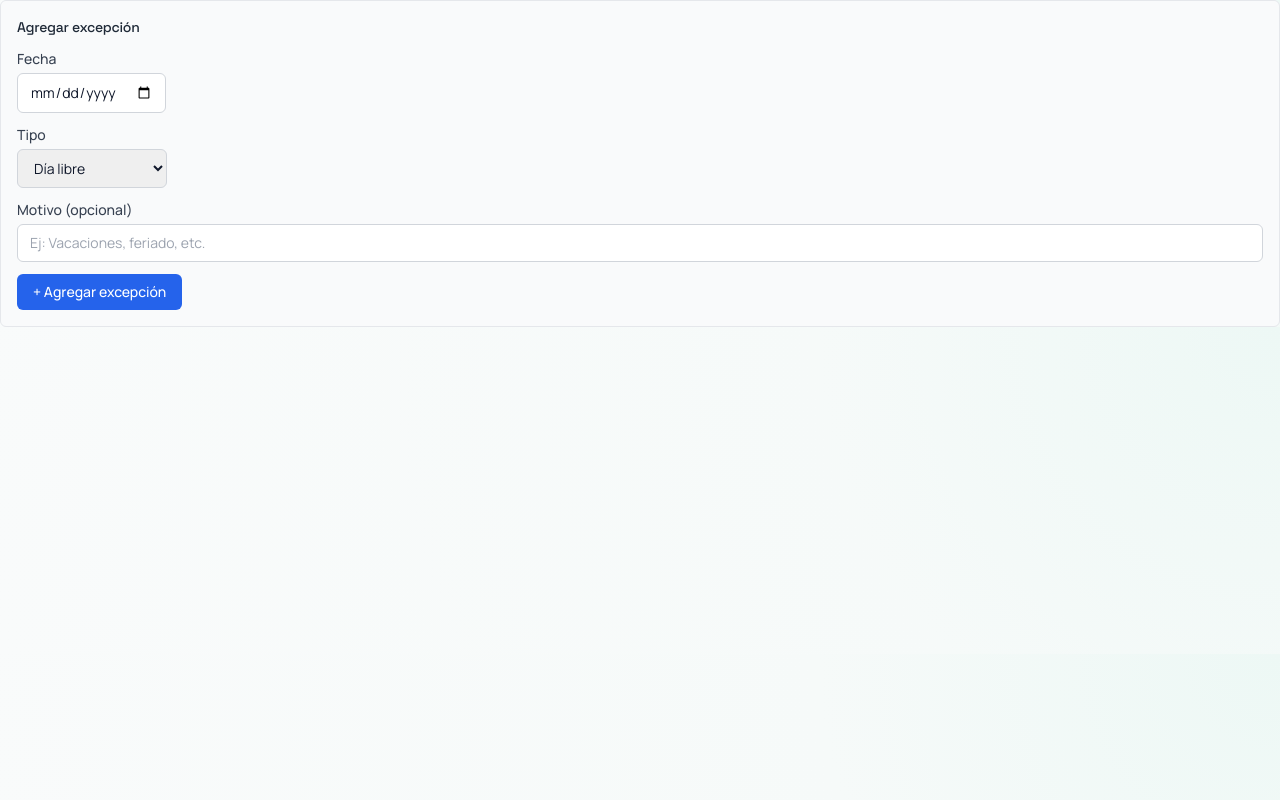
ExceptionDateForm › shows validation error when submitting without date
The image size is (1280, 800).
Click the button "+ Agregar excepción": (100, 292) x1=17 y1=274 x2=182 y2=310
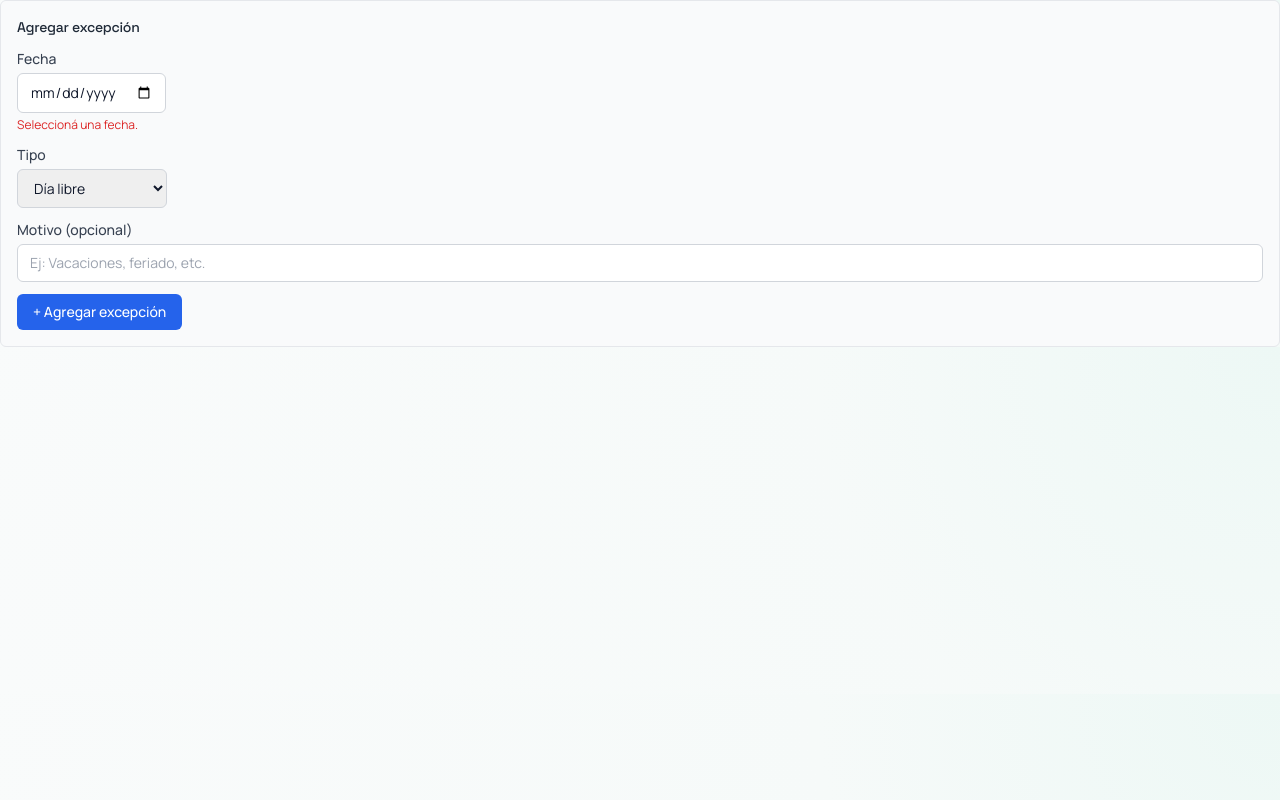
Expected: the text "Seleccioná una fecha." is shown, x1=17 y1=116 x2=138 y2=133
